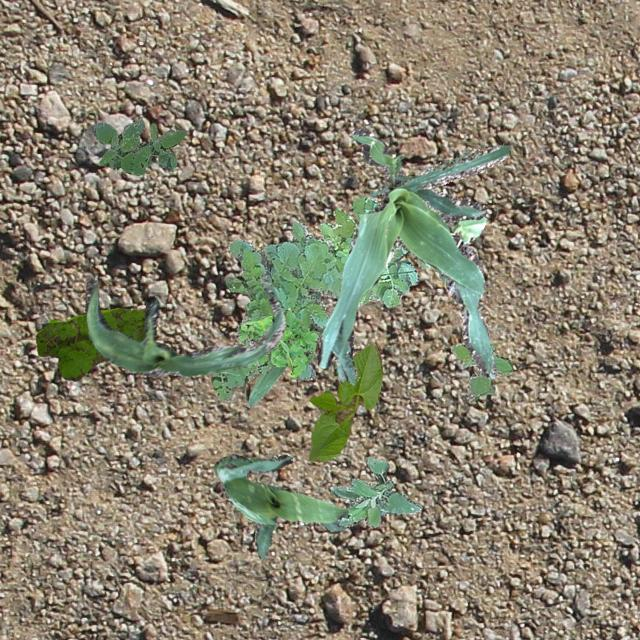crop: (316, 126, 510, 384), (83, 276, 284, 376), (214, 454, 348, 558), (246, 290, 322, 406), (308, 342, 382, 461), (417, 216, 485, 268)
weed: (210, 196, 418, 400), (34, 306, 144, 379), (328, 456, 421, 526), (238, 306, 318, 376), (92, 116, 185, 174), (450, 342, 512, 402)
